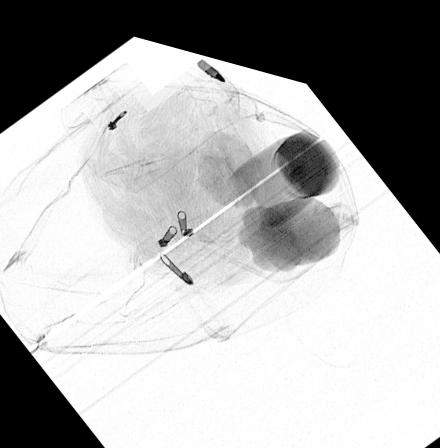Bullet: (196, 48, 227, 70)
